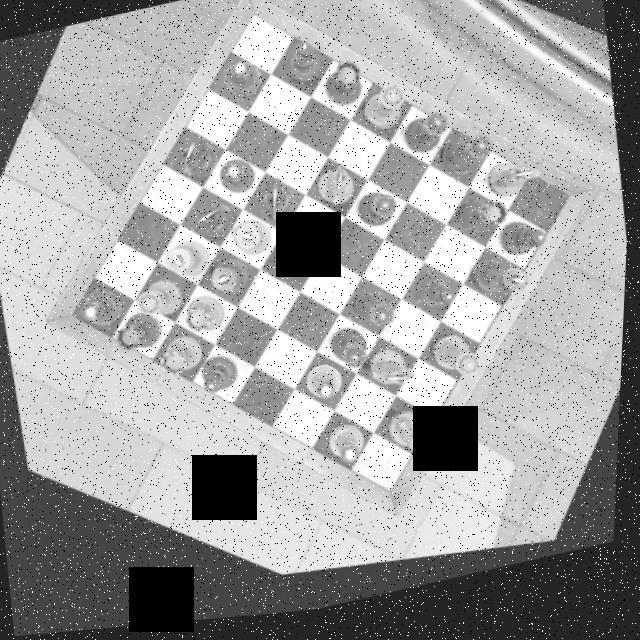chess-table-corners: (361, 478, 413, 534), (229, 6, 278, 56), (543, 189, 590, 238), (54, 308, 93, 348)
